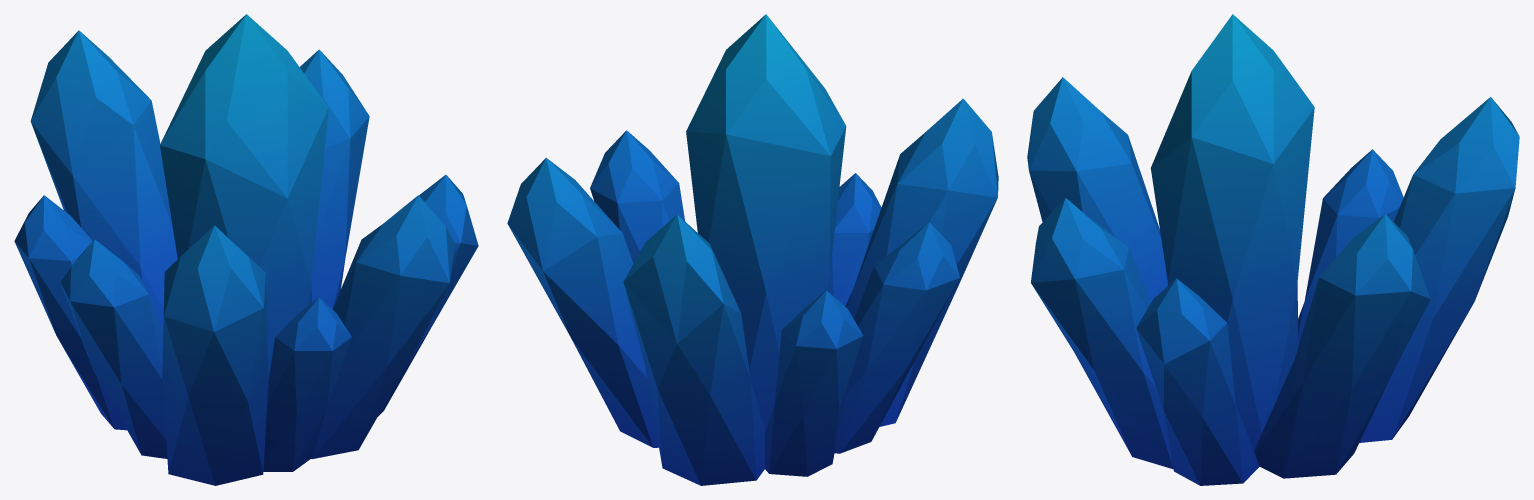
File: Crystal_1.glb
3 views of the same model, side by side, from view 1: azimuth 30°, elevation 25°; view 2: azimuth 150°, elevation 25°; view 3: azimuth 270°, elevation 25° (orthographic). The views are drawn at different scales.
Visible parts, largest first — view 1: crystal_4; view 2: crystal_4; view 3: crystal_4.
Boxes of the visible parts, x1,y1,x2,y2 form: crystal_4: (14, 14, 478, 485); crystal_4: (507, 14, 998, 485); crystal_4: (1027, 14, 1519, 485).
Size of the model in its own units: 8.19 by 8.41 by 9.09.
